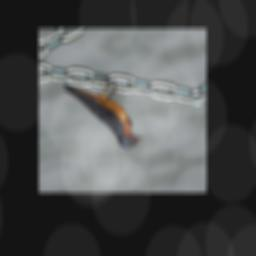Swallow: (62, 66, 146, 162)
